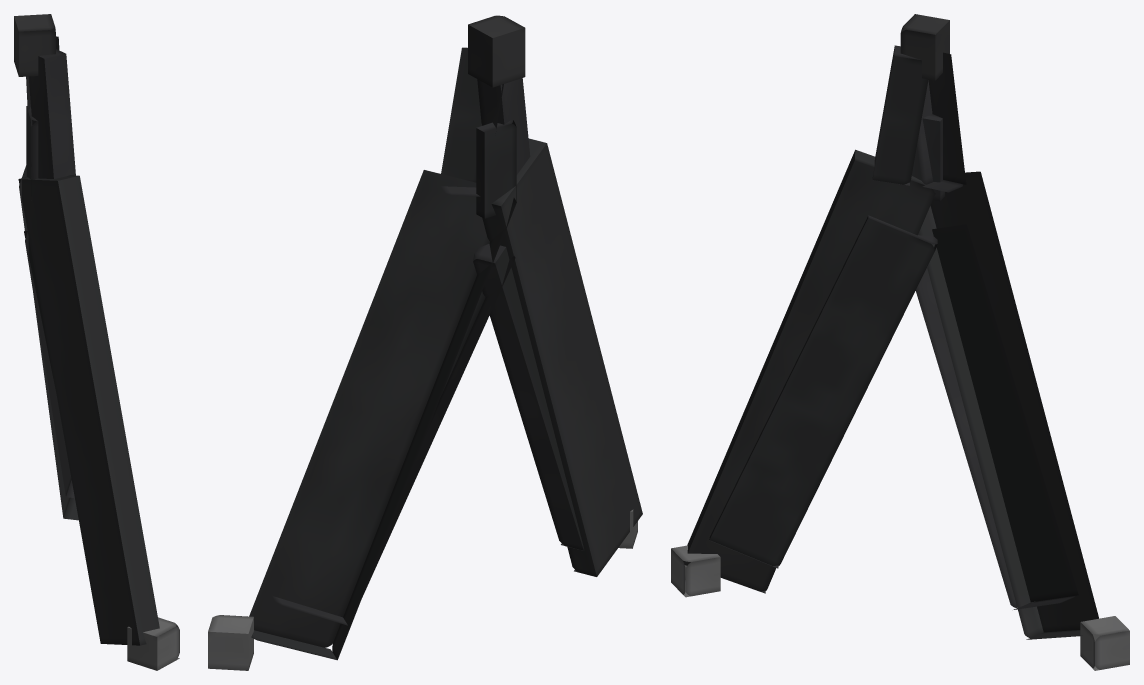
The model's file is leg.obj.
3 renders of one model, left to right at view 1: azimuth 30°, elevation 25°; view 2: azimuth 150°, elevation 25°; view 3: azimuth 270°, elevation 25°, orthographic. The views are drawn at different scales.
Parts seen in each view (by area): view 1: Leg; view 2: Leg; view 3: Leg.
Boxes of the visible parts, x1,y1,x2,y2 form: Leg: [14, 14, 179, 670]; Leg: [208, 15, 642, 670]; Leg: [671, 14, 1129, 670].
Size of the model in its own units: 1.14 by 3.09 by 2.27.
